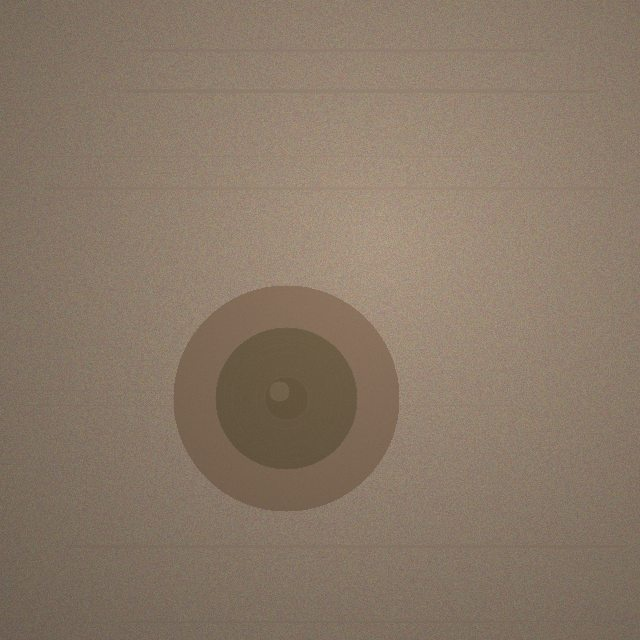good: (173, 285, 399, 511)
